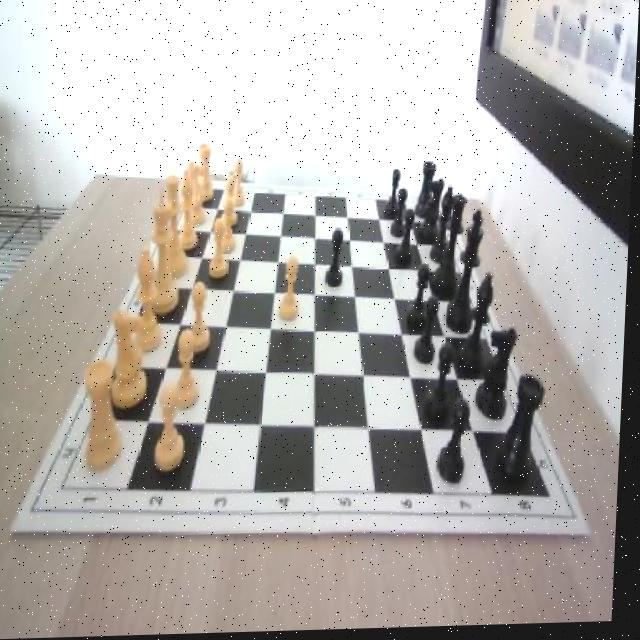bishop: (462, 274, 498, 374), (434, 186, 458, 264)
black-bishop: (446, 211, 487, 335)
black-king: (477, 331, 522, 423), (420, 178, 448, 243)
black-knight: (441, 399, 474, 488), (428, 343, 456, 429), (408, 264, 433, 334), (418, 299, 441, 367), (328, 230, 348, 288), (398, 213, 417, 269), (386, 172, 404, 224), (393, 190, 411, 239)
black-pawn: (435, 196, 470, 298)
black-queen: (501, 377, 548, 492), (416, 164, 437, 221)
black-rook: (134, 248, 167, 353), (179, 170, 203, 249)
white-bishop: (149, 184, 184, 313)
white-king: (112, 307, 155, 412), (184, 159, 210, 230)
white-knight: (156, 386, 192, 476), (175, 330, 207, 413), (188, 281, 216, 353), (281, 257, 305, 322), (211, 220, 234, 282), (220, 199, 241, 255), (224, 176, 240, 229), (233, 157, 247, 207)
white-pawn: (164, 177, 195, 282)
white-queen: (83, 359, 128, 473), (197, 144, 218, 204)
